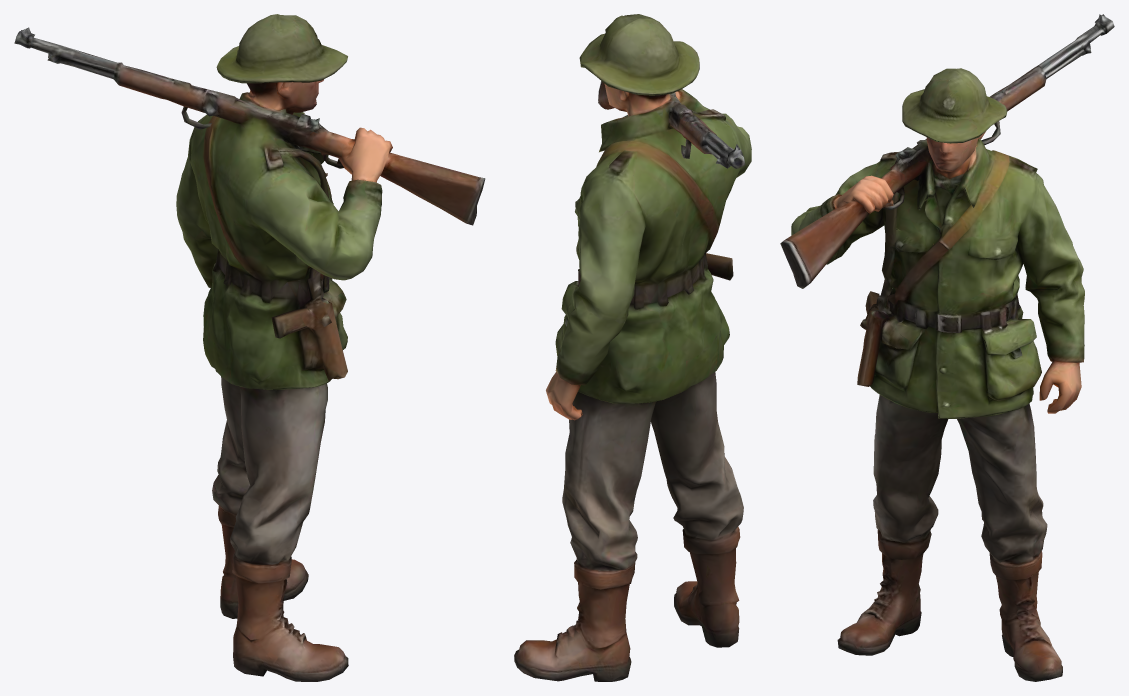
The model's file is jaeger.glb.
The picture shows the model from 3 angles, left to right: view 1: azimuth 30°, elevation 25°; view 2: azimuth 150°, elevation 25°; view 3: azimuth 270°, elevation 25°; orthographic projection. The views are drawn at different scales.
Visible parts, largest first — view 1: tripo_node_66914172-3319-46f7-b4e3-6e74986af7cc; view 2: tripo_node_66914172-3319-46f7-b4e3-6e74986af7cc; view 3: tripo_node_66914172-3319-46f7-b4e3-6e74986af7cc.
Boxes of the visible parts, x1,y1,x2,y2 form: tripo_node_66914172-3319-46f7-b4e3-6e74986af7cc: [14, 14, 485, 681]; tripo_node_66914172-3319-46f7-b4e3-6e74986af7cc: [514, 14, 751, 681]; tripo_node_66914172-3319-46f7-b4e3-6e74986af7cc: [780, 14, 1114, 681].
Size of the model in its own units: 0.5123 by 1 by 0.5184.
1 material, 1 textured.
